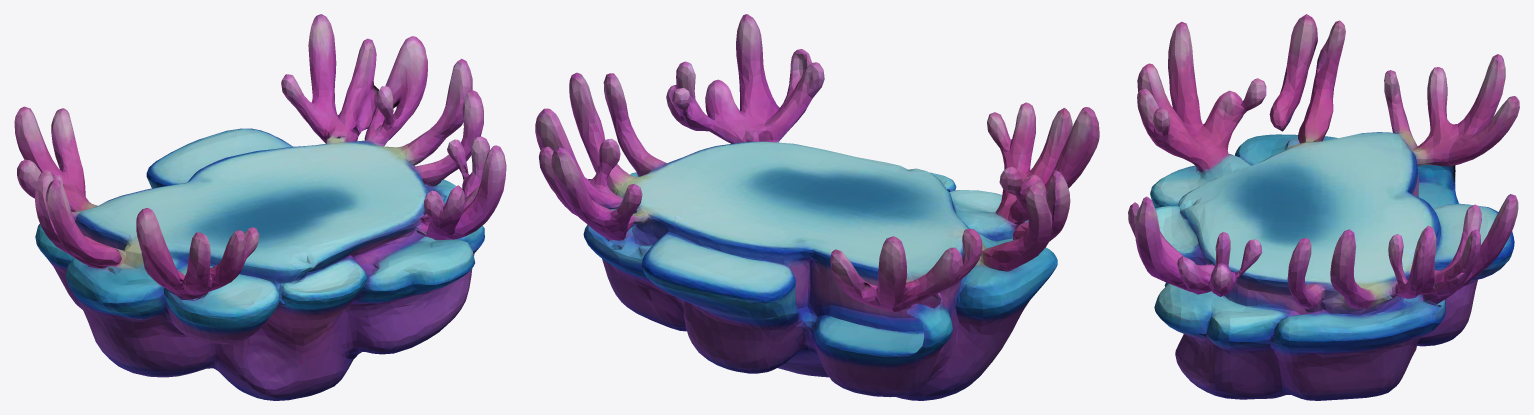
The model's file is coral_floor.glb.
The picture shows the model from 3 angles, left to right: view 1: azimuth 30°, elevation 25°; view 2: azimuth 150°, elevation 25°; view 3: azimuth 270°, elevation 25°; orthographic projection. The views are drawn at different scales.
Parts seen in each view (by area): view 1: world.001; view 2: world.001; view 3: world.001.
Boxes of the visible parts, <box> form: world.001: <box>14,14,506,400</box>; world.001: <box>535,14,1099,400</box>; world.001: <box>1128,14,1519,400</box>.
Bounding box in the file's own units: 0.997 × 0.5474 × 0.7305.
1 material, 1 textured.
